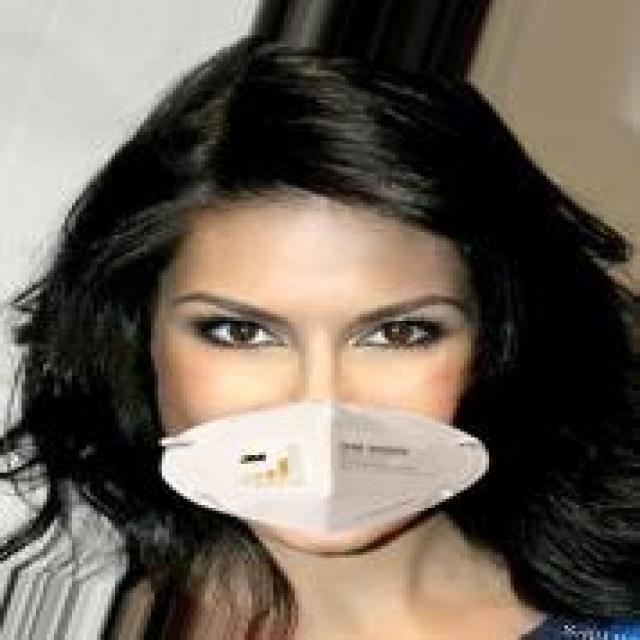mask: (87, 117, 540, 602)
